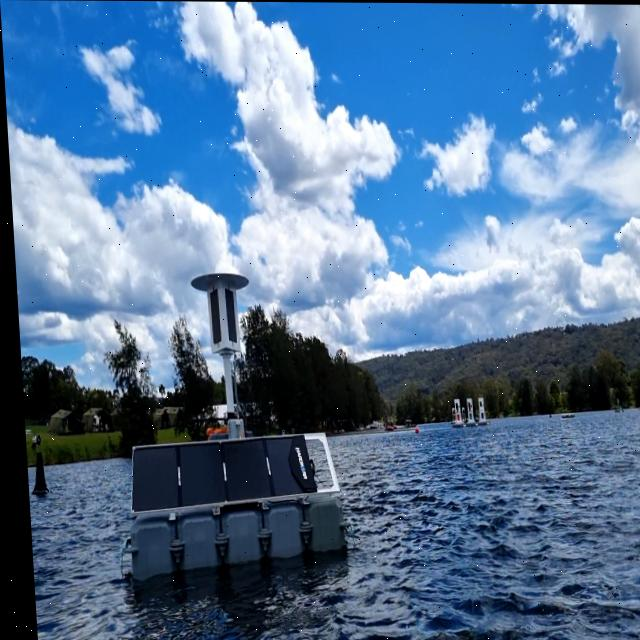led: (204, 291, 221, 346), (220, 285, 235, 346)
